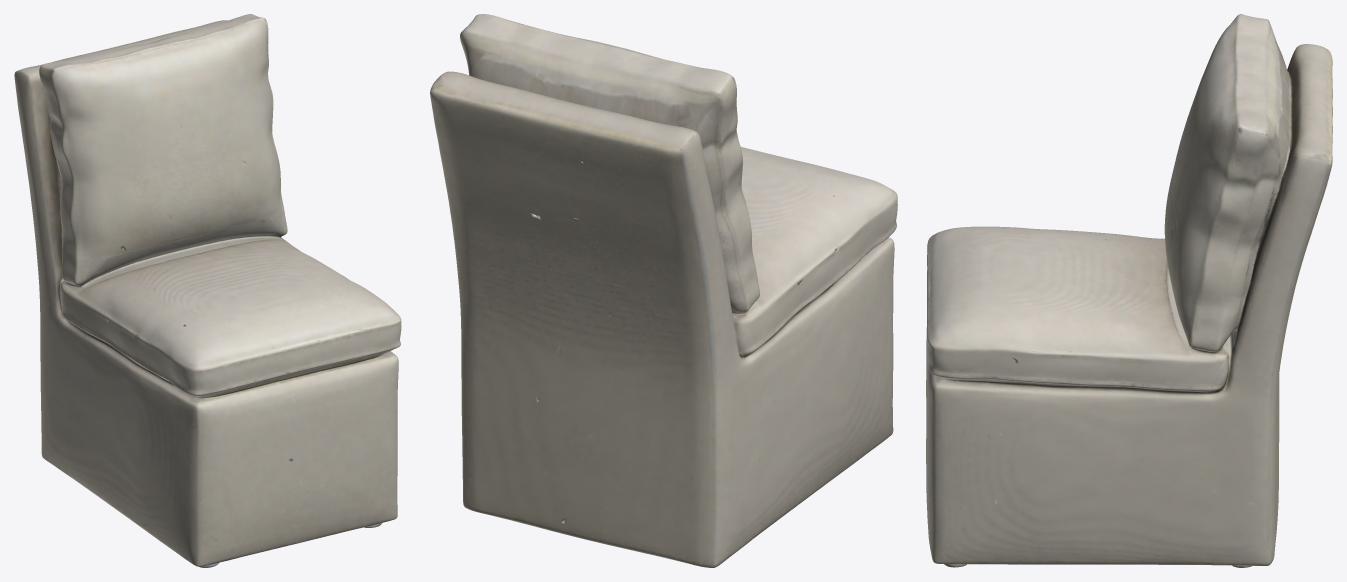
The model's file is Single-chair.glb.
3 renders of one model, left to right at view 1: azimuth 30°, elevation 25°; view 2: azimuth 150°, elevation 25°; view 3: azimuth 270°, elevation 25°, orthographic. The views are drawn at different scales.
Size of the model in its own units: 1.14 by 2 by 1.64.
1 material, 1 textured.
